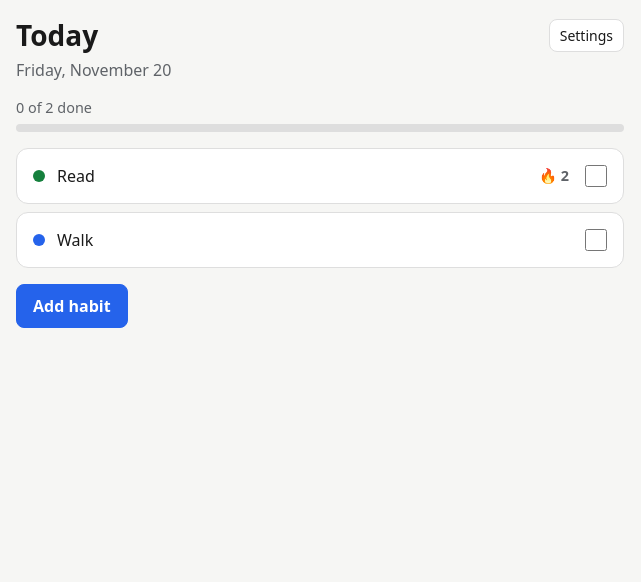
Test: Accessibility on every screen › Today, with habits, and the add form
The width and height of the screenshot is (641, 582).
Expected: the number of headings is 1, [16,16,98,55]
Click the button "Add habit".
click(72, 306)  # box [16,284,128,328]
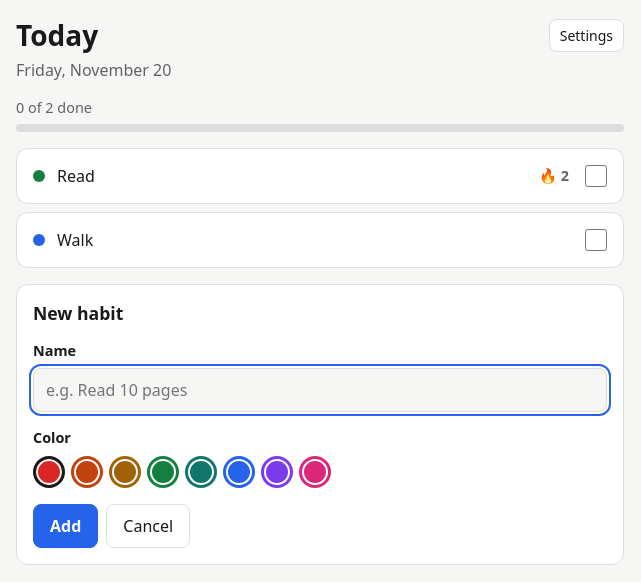
Expected: the element "Color" is shown, [33,428,331,488]
